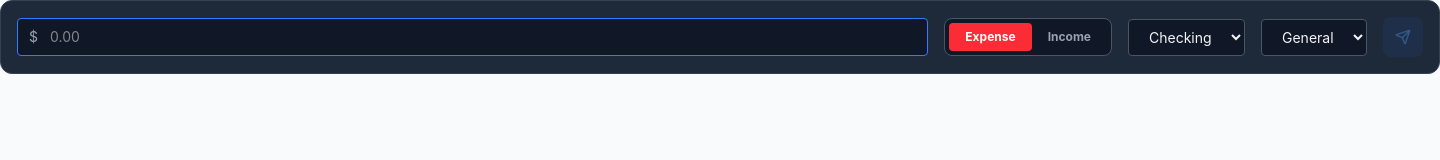
QuickAddMovement › displays error when mutation fails
The image size is (1440, 160).
In the field named "Amount": (473,37) [17,18,928,56], type "5"
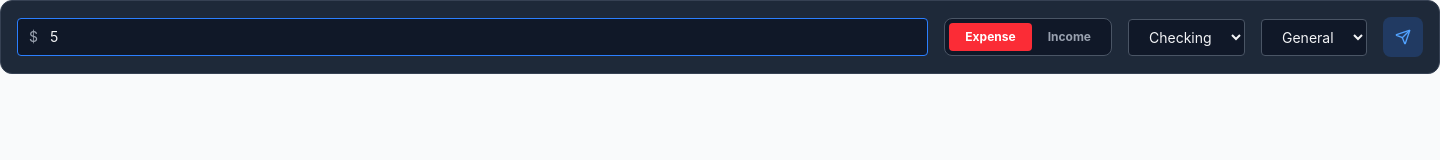
Click the button named "Submit quick add": (1403,37) [1383,17,1423,57]
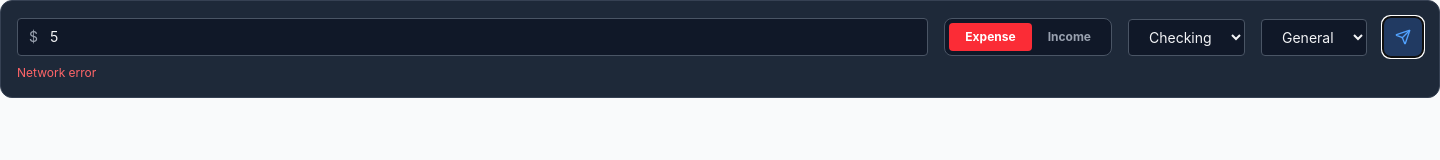
Now the text "Network error" is shown, box [17,65,96,80]
